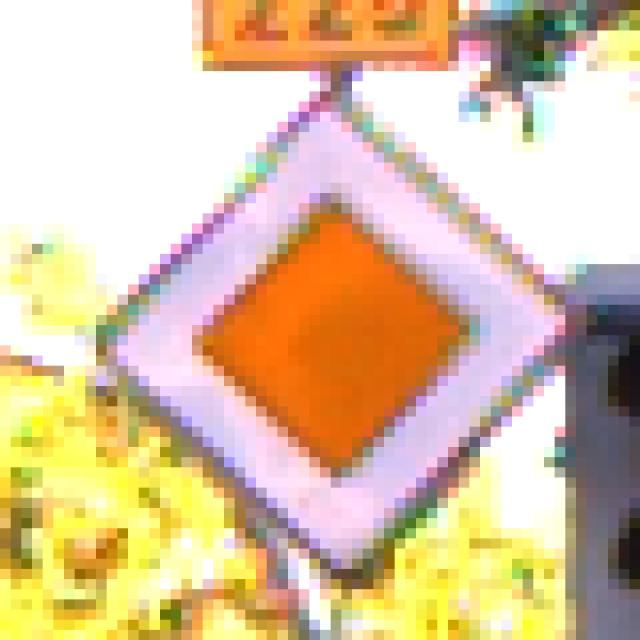Main Road: (65, 62, 588, 580)
